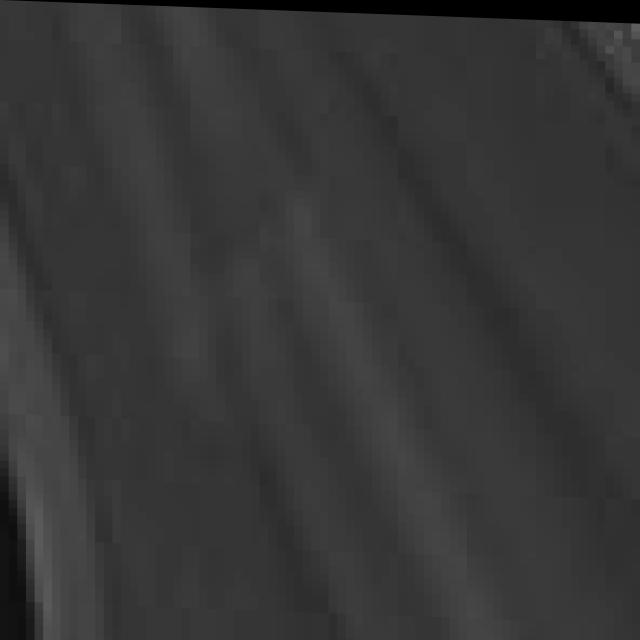fracture: (0, 6, 640, 640)
